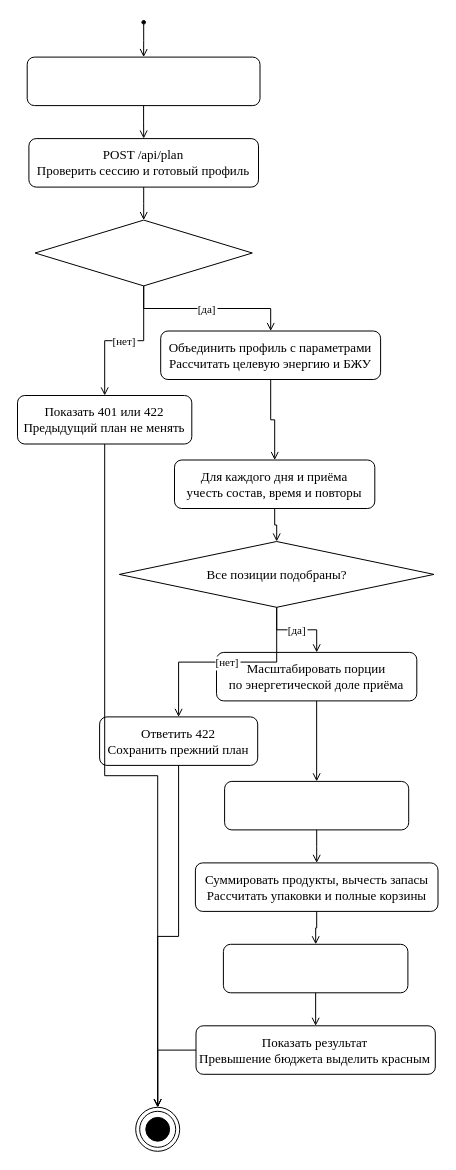
The diagram is 456 pixels wide and 1170 high, and some of its shapes have lost their labels. The shapes that lost their labels are listed below. From the top down, each one's centre as x and y in pixels, then its label:
At pixel 143 81: "Задать период, бюджет, предпочтения Нажать «Составить меню»".
At pixel 143 252: "Ввод допустим?".
At pixel 316 805: "Одной транзакцией записать Plan draft и все Meal".
At pixel 315 968: "HTTP 201: снимок состояния Меню, калории, цены и бюджет".
